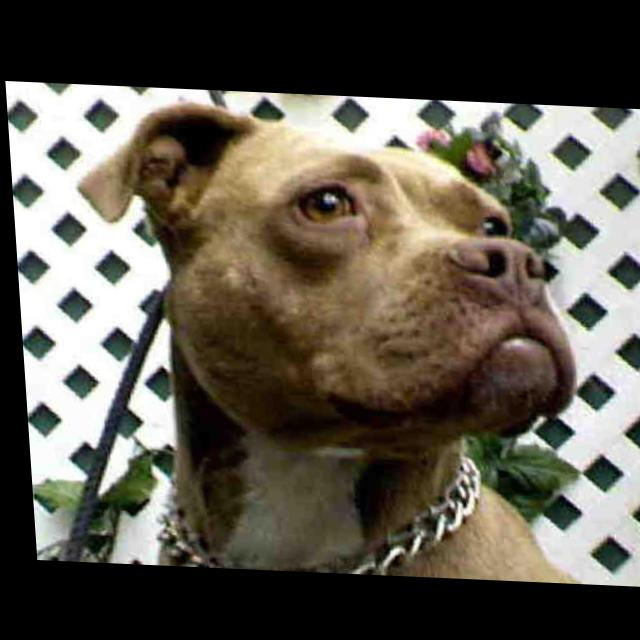staffford: (70, 94, 584, 580)
